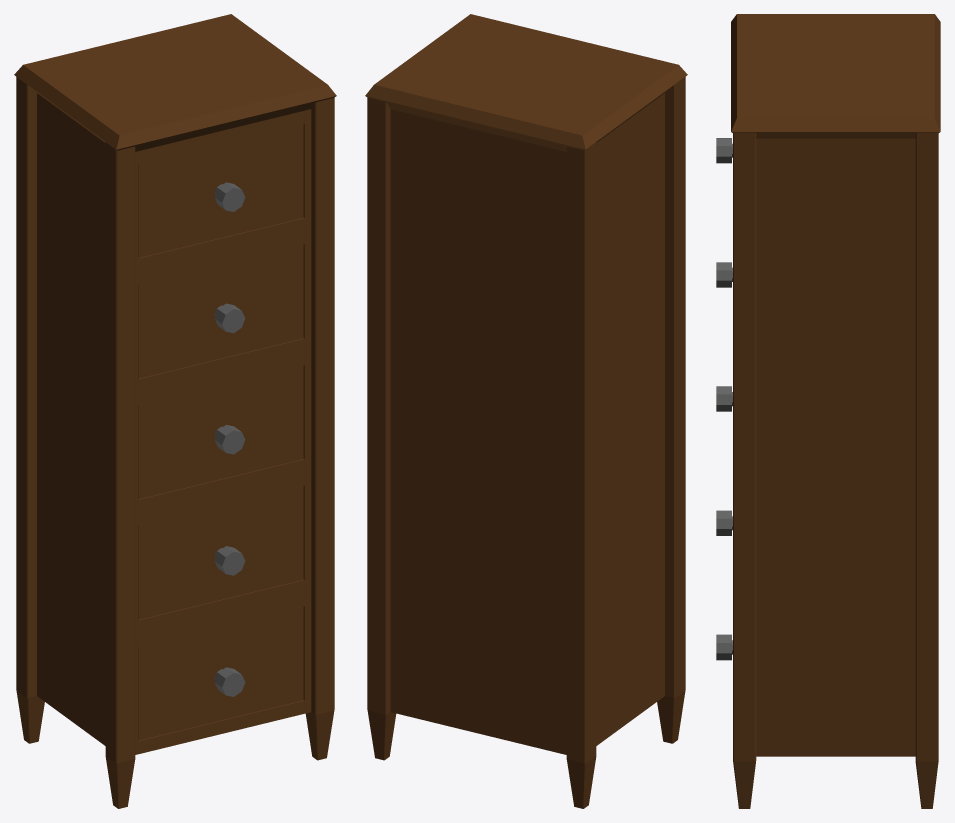
Rendered from LingerieDresser1.glb.
The picture shows the model from 3 angles, left to right: view 1: azimuth 30°, elevation 25°; view 2: azimuth 150°, elevation 25°; view 3: azimuth 270°, elevation 25°; orthographic projection. The views are drawn at different scales.
Visible parts, largest first — view 1: LingerieDresser1, Drawer2_LingerieDresser1, Drawer5_LingerieDresser1, Drawer3_LingerieDresser1, Drawer4_LingerieDresser1, Drawer1_LingerieDresser1; view 2: LingerieDresser1; view 3: LingerieDresser1, Drawer5_LingerieDresser1, Drawer1_LingerieDresser1, Drawer2_LingerieDresser1, Drawer3_LingerieDresser1, Drawer4_LingerieDresser1.
Part boxes in pixels (left/top/right/bottom): LingerieDresser1: left=14, top=14, right=336, bottom=808; Drawer2_LingerieDresser1: left=138, top=244, right=303, bottom=378; Drawer5_LingerieDresser1: left=138, top=606, right=303, bottom=740; Drawer3_LingerieDresser1: left=138, top=365, right=303, bottom=498; Drawer4_LingerieDresser1: left=138, top=486, right=303, bottom=619; Drawer1_LingerieDresser1: left=138, top=124, right=303, bottom=257; LingerieDresser1: left=365, top=14, right=687, bottom=808; LingerieDresser1: left=731, top=14, right=940, bottom=808; Drawer5_LingerieDresser1: left=716, top=634, right=732, bottom=660; Drawer1_LingerieDresser1: left=716, top=138, right=732, bottom=163; Drawer2_LingerieDresser1: left=716, top=262, right=732, bottom=287; Drawer3_LingerieDresser1: left=716, top=386, right=732, bottom=411; Drawer4_LingerieDresser1: left=716, top=510, right=732, bottom=535.
Size of the model in its own units: 0.4796 by 1.4 by 0.4122.
